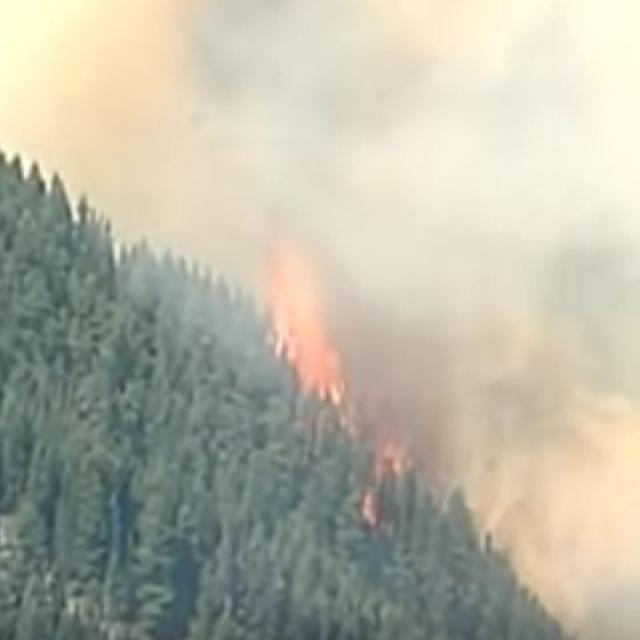Fire: (266, 248, 360, 401), (363, 424, 413, 548)
Smoke: (295, 23, 640, 594), (9, 0, 274, 289)
